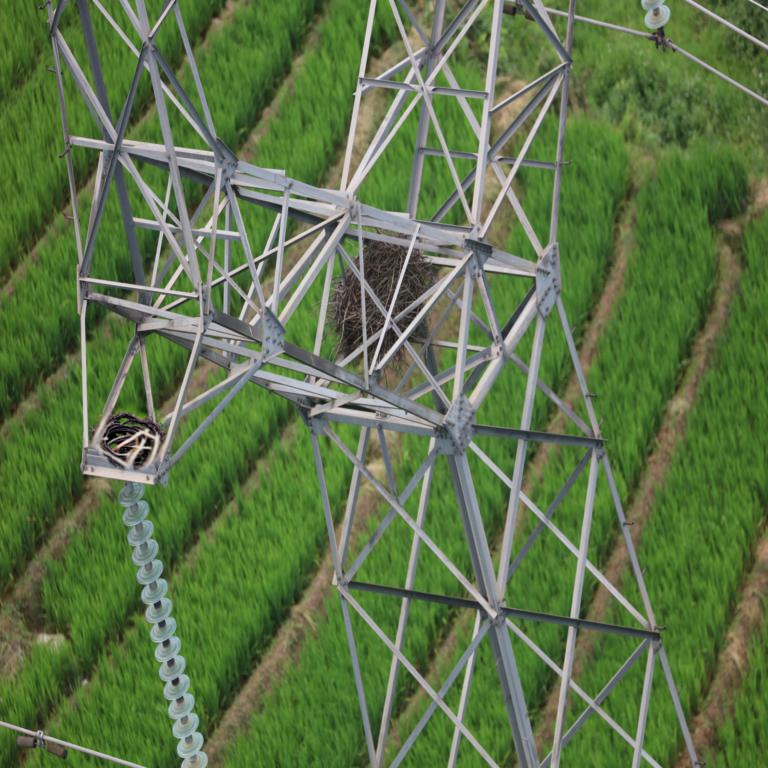nest: (331, 241, 431, 361), (97, 416, 163, 466)
